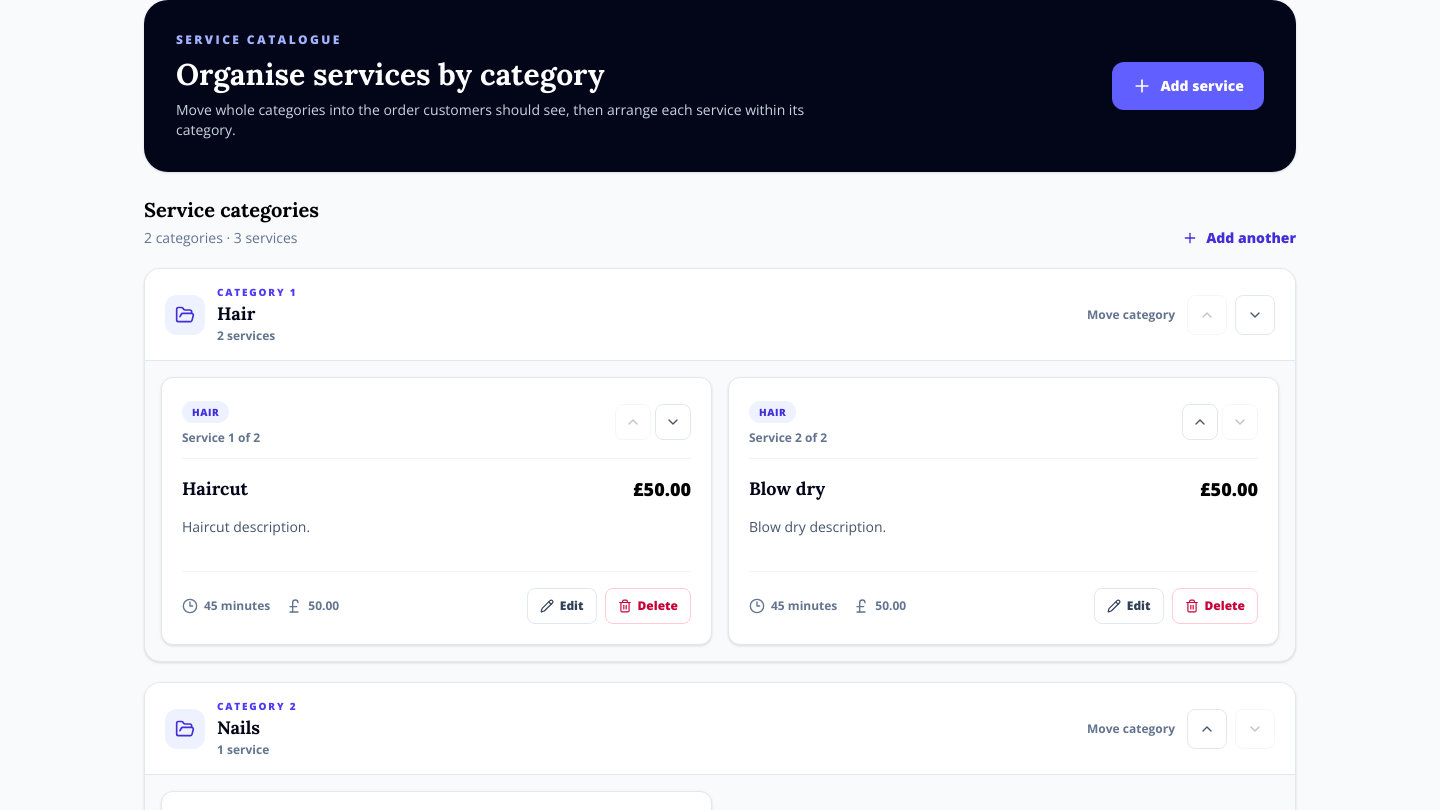
Test: ServicesPage › moves a service only within its own category
The image size is (1440, 810).
Click the button named "Move Blow dry up within Hair". click: (1200, 422)
box: [1182,404,1218,440]
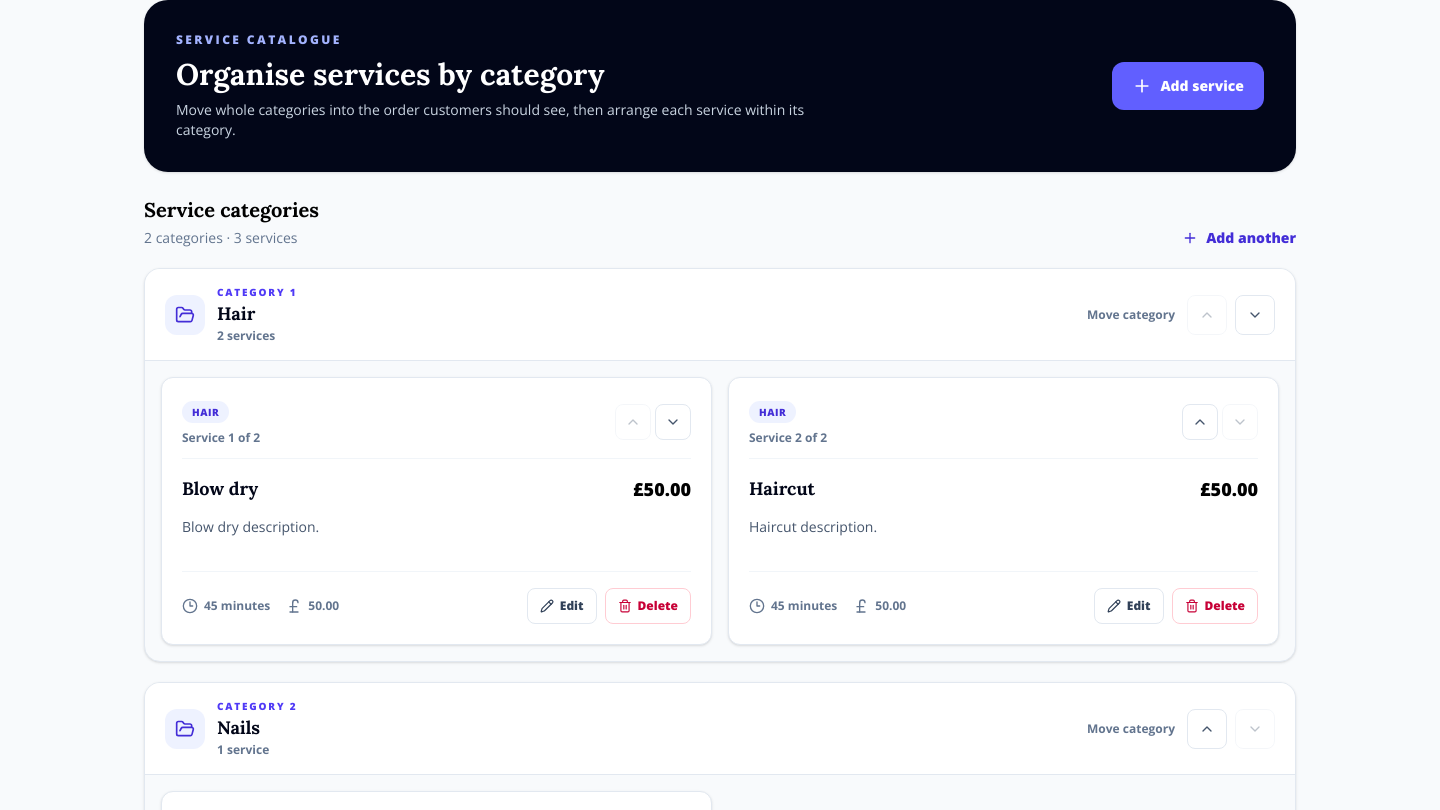
Expected: the element "Hair" is shown, [144,268,1296,662]
Now the headings read "Blow dry", "Haircut", in this order, box [182,475,258,503]; [749,475,815,503]
